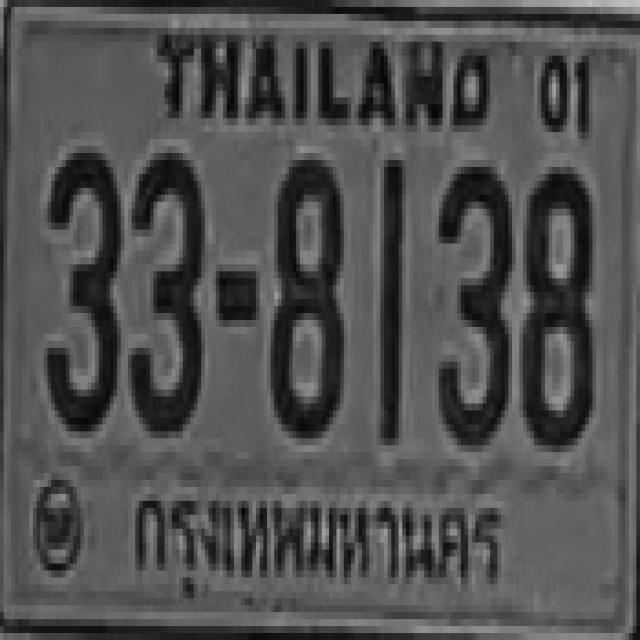1: (377, 153, 402, 438)
3: (128, 146, 201, 431), (44, 146, 117, 424), (436, 160, 508, 438)
8: (269, 153, 342, 431), (519, 163, 589, 442)
Bangkok: (121, 465, 514, 616)
